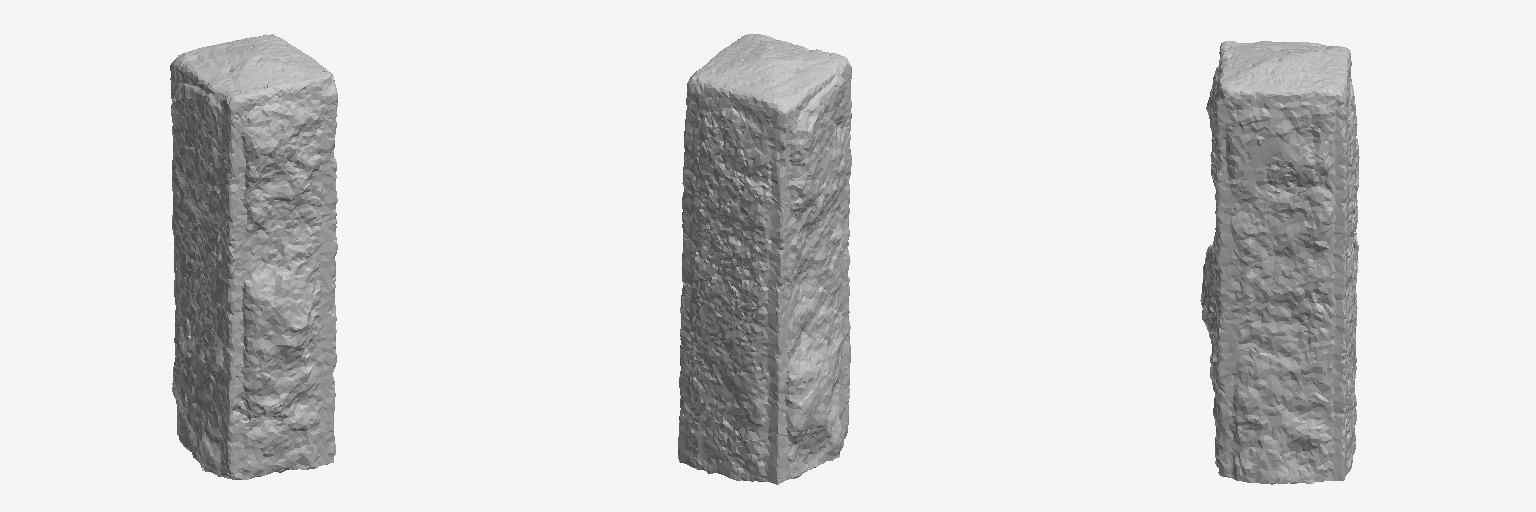
Rendered from milestone_01_Low_20k_tris_.obj.
3 renders of one model, left to right at view 1: azimuth 30°, elevation 25°; view 2: azimuth 150°, elevation 25°; view 3: azimuth 270°, elevation 25°, orthographic.
Parts seen in each view (by area): view 1: milestone_01_Low_20k_tris_; view 2: milestone_01_Low_20k_tris_; view 3: milestone_01_Low_20k_tris_.
Boxes of the visible parts, <box> form: milestone_01_Low_20k_tris_: <box>170,34,337,479</box>; milestone_01_Low_20k_tris_: <box>678,34,851,484</box>; milestone_01_Low_20k_tris_: <box>1200,41,1359,484</box>.
Size of the model in its own units: 0.4082 by 1.19 by 0.4325.